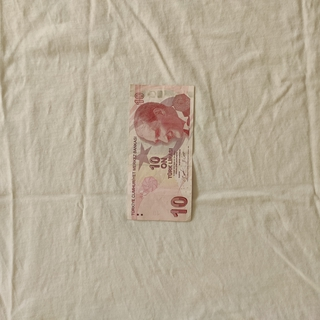10TLFront: (125, 83, 194, 222)
